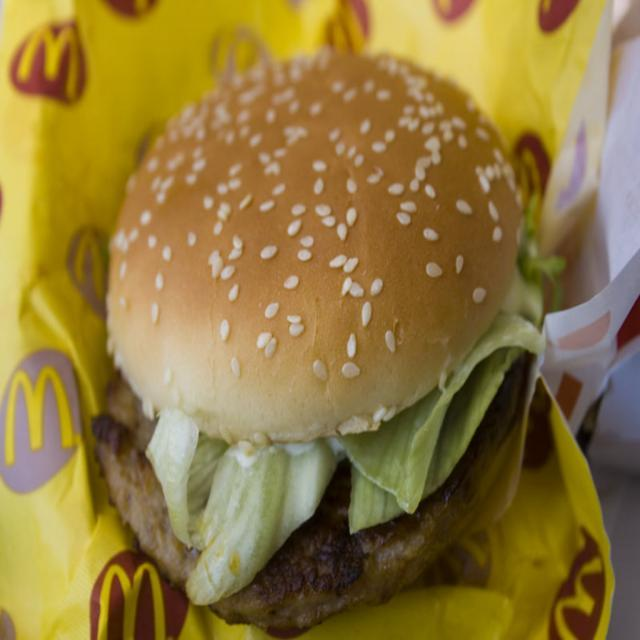Hamburger: (90, 49, 565, 639)
